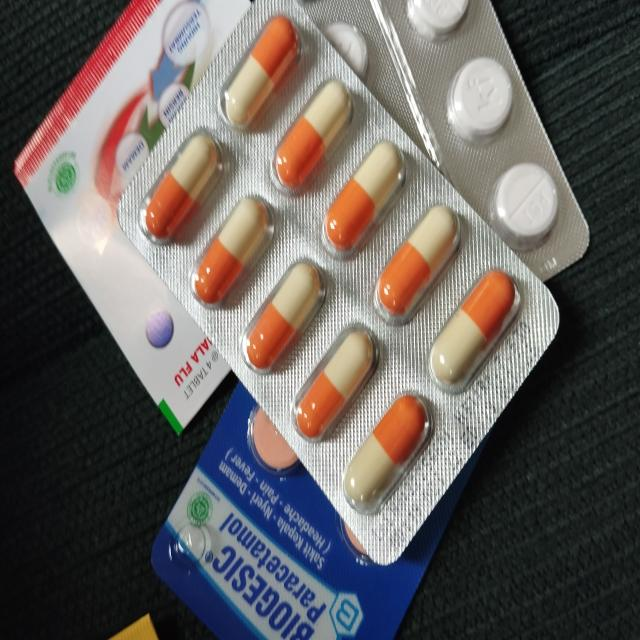B3: (150, 378, 478, 640), (291, 0, 590, 277)
